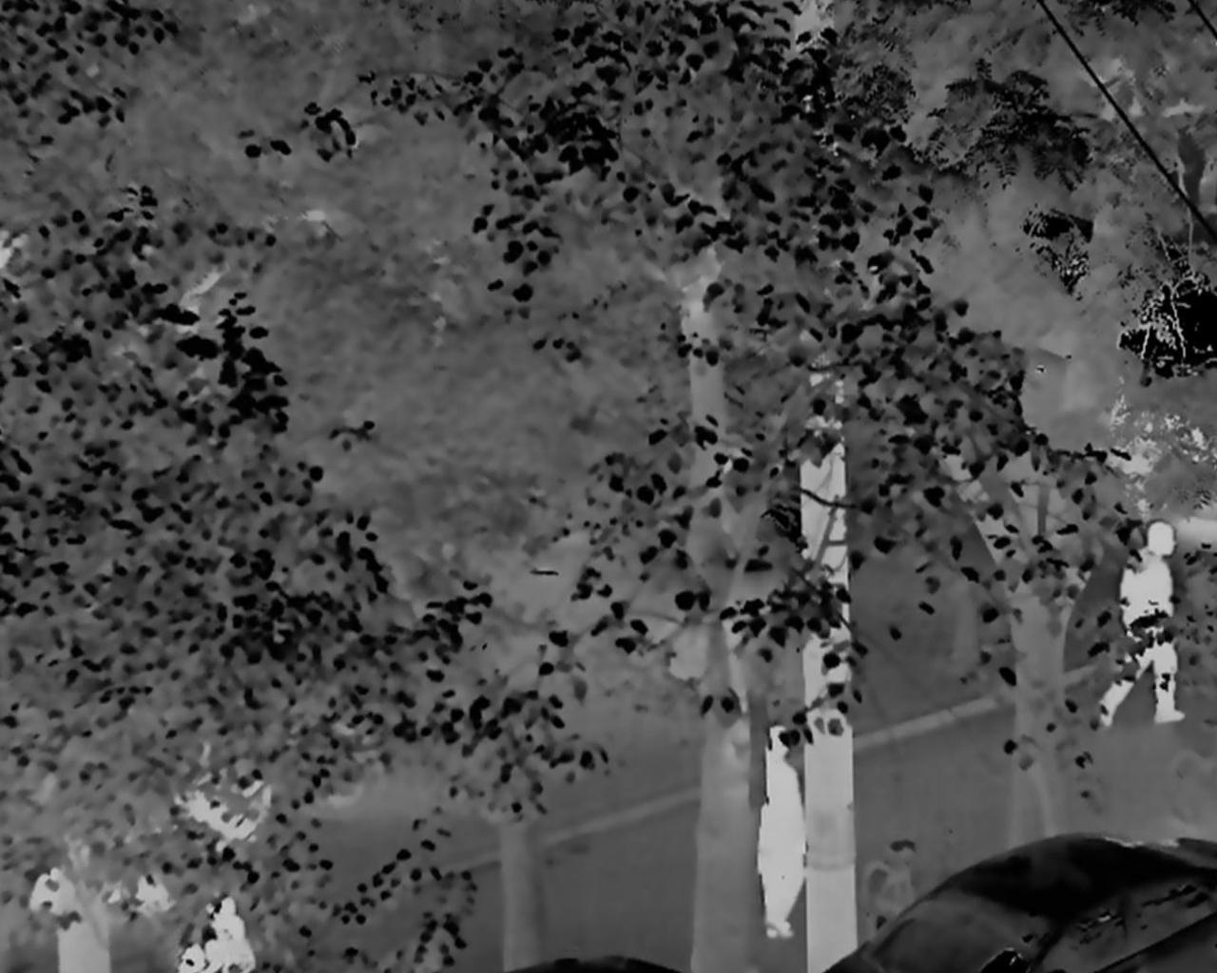person: (1106, 520, 1188, 734), (758, 723, 808, 942)
